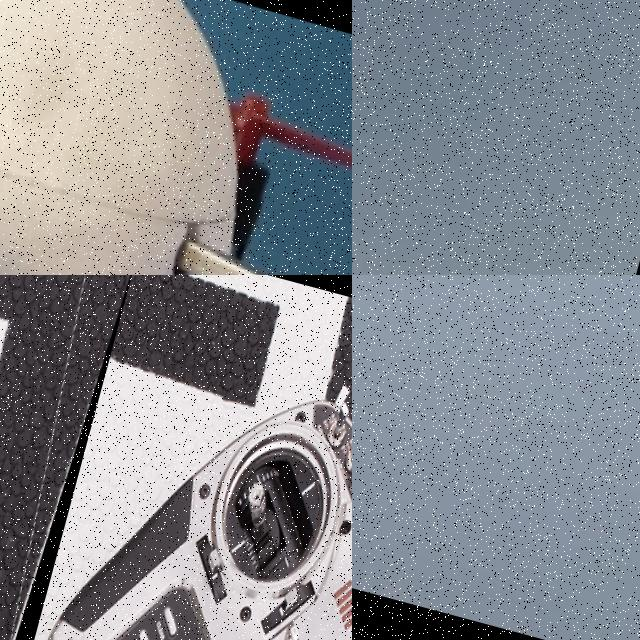drone: (0, 0, 352, 275), (0, 275, 140, 640)
